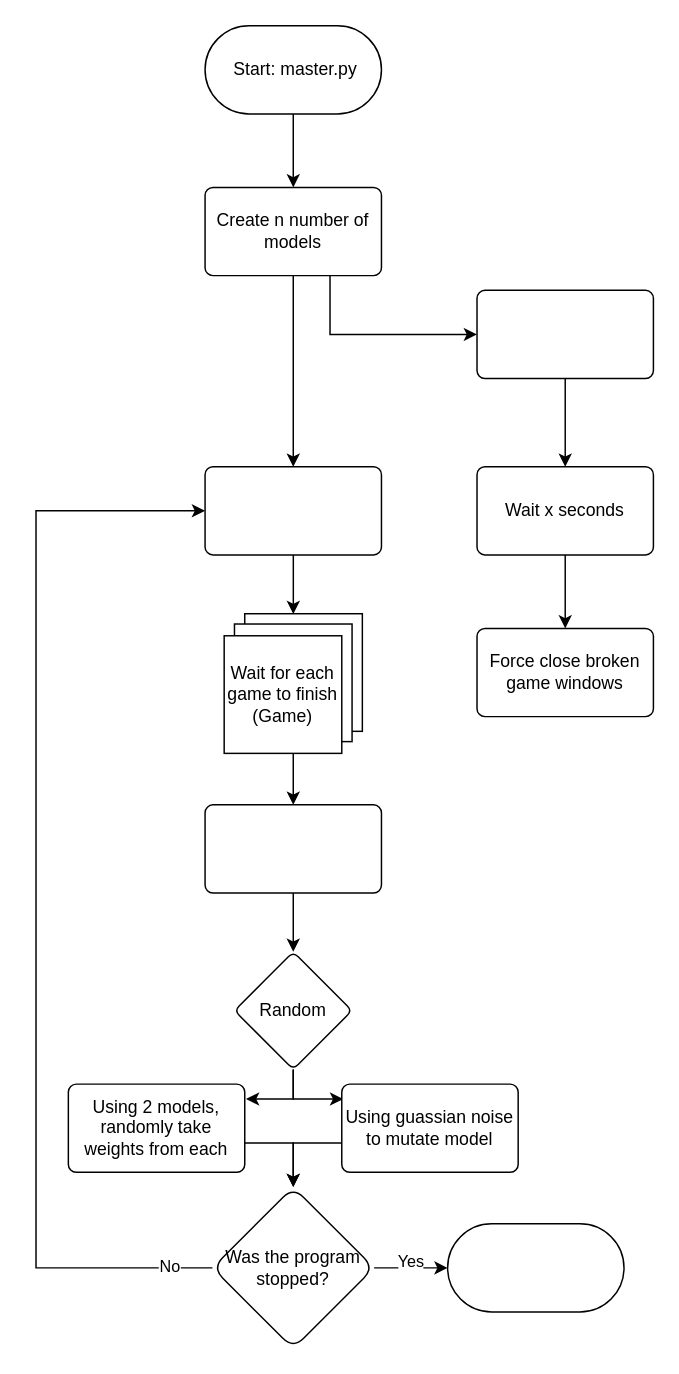
This 679x1374 diagram has some shape labels left out. The shapes that lost their labels are listed below. From the top down, each one's centre as x and y in pixels, then its label:
At point 564,334: "Start indepedent cleaning process".
At point 292,510: "Start n instances of game with models".
At point 292,848: "Take n models longest time alive".
At point 535,1267: "Stop program".
